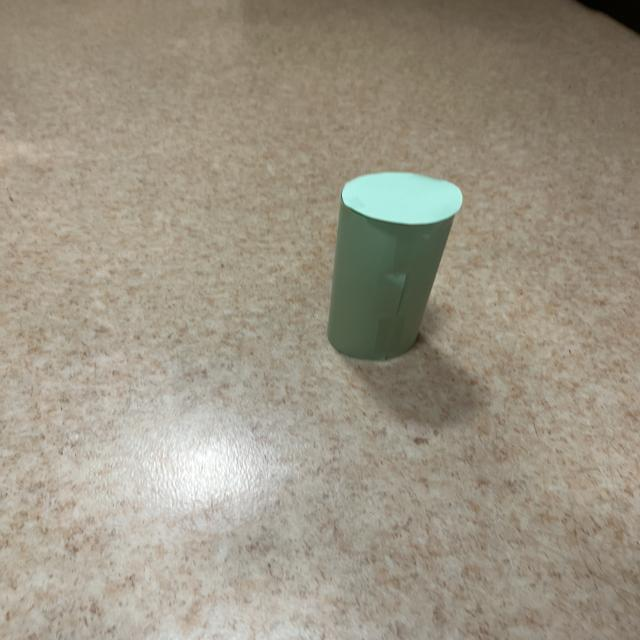meta: (328, 173, 462, 361)
